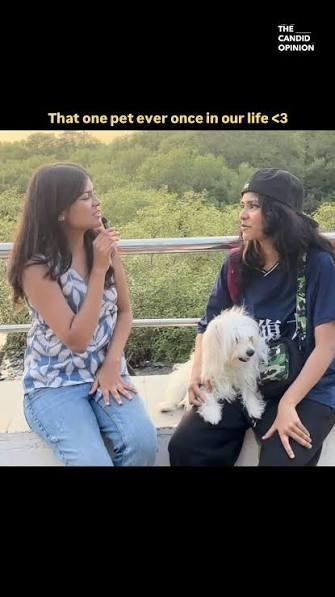adult_dog: (157, 306, 268, 428)
